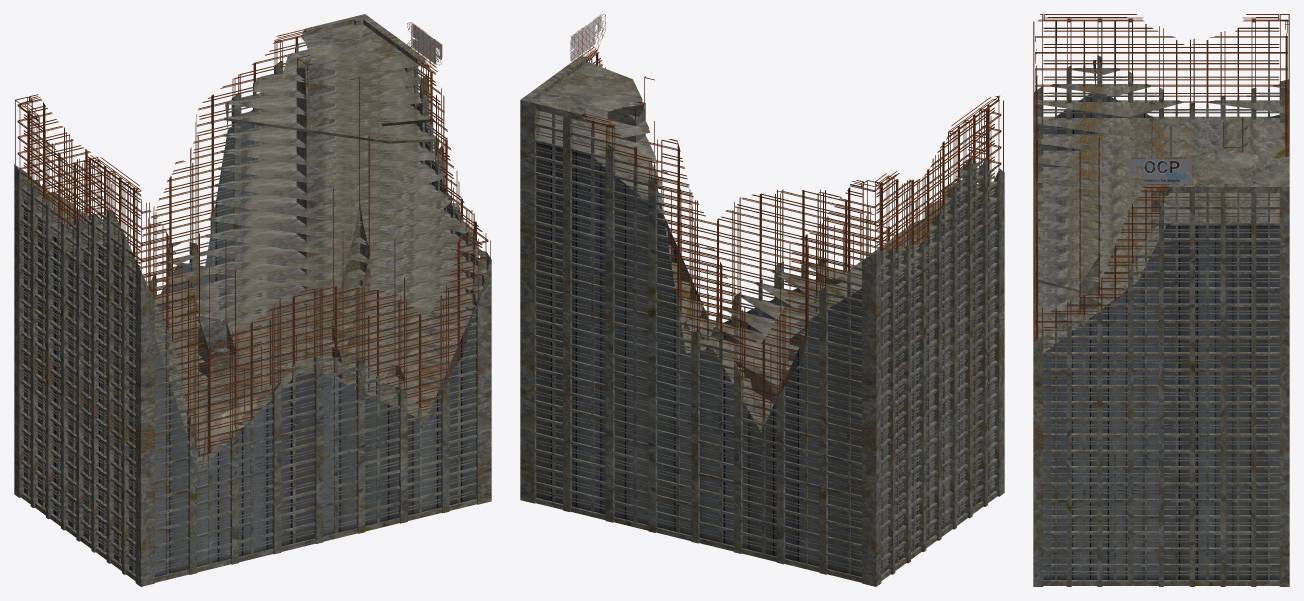
The model's file is tower_majadroid_06.glb.
3 views of the same model, side by side, from view 1: azimuth 30°, elevation 25°; view 2: azimuth 150°, elevation 25°; view 3: azimuth 270°, elevation 25° (orthographic).
Parts seen in each view (by area): view 1: tower_majadroid_06; view 2: tower_majadroid_06; view 3: tower_majadroid_06.
Boxes of the visible parts, bbox=[...] form: tower_majadroid_06: bbox=[14, 14, 491, 586]; tower_majadroid_06: bbox=[520, 14, 1004, 586]; tower_majadroid_06: bbox=[1033, 14, 1289, 586].
Bounding box in the file's own units: 80 × 92 × 50.
4 materials, 4 textured.
